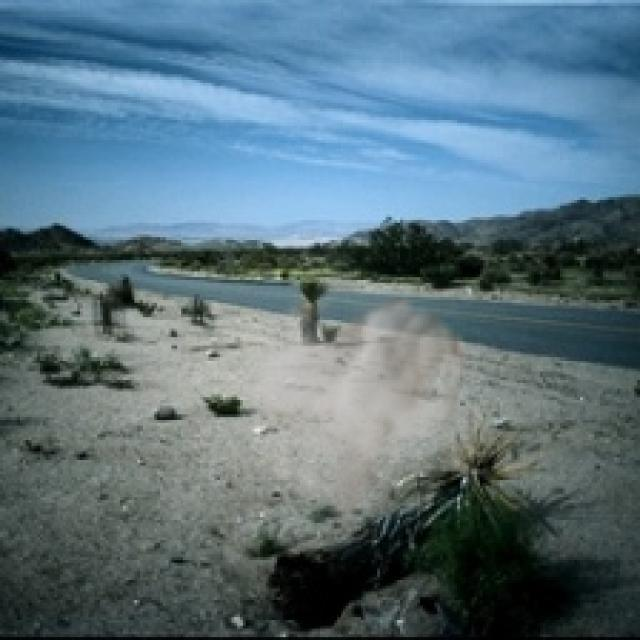Smoke: (237, 271, 489, 540)
